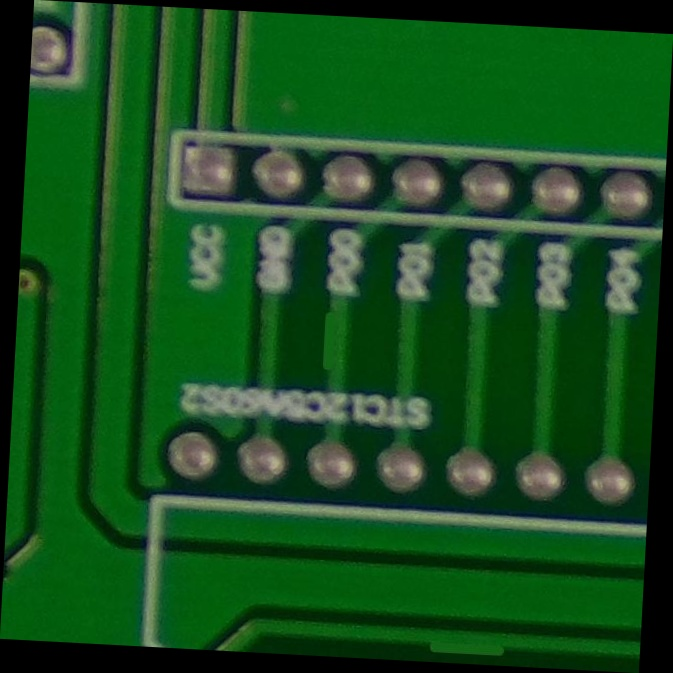spur: (308, 295, 366, 378)
